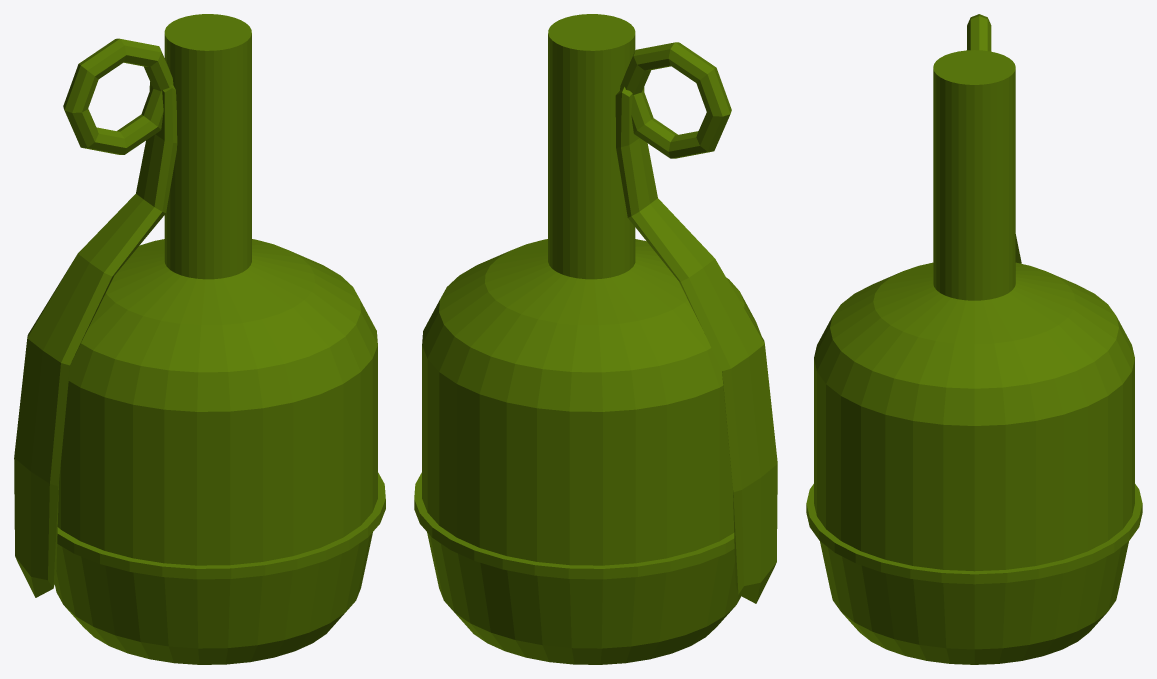
File: simple-grenade__grenade.glb
3 renders of one model, left to right at view 1: azimuth 30°, elevation 25°; view 2: azimuth 150°, elevation 25°; view 3: azimuth 270°, elevation 25°, orthographic. The views are drawn at different scales.
Parts seen in each view (by area): view 1: Cylinder, Torus; view 2: Cylinder, Torus; view 3: Cylinder, Torus.
Part boxes in pixels (x1,y1,x2,y2): Cylinder: (14, 14, 385, 664); Torus: (63, 38, 173, 154); Cylinder: (414, 14, 777, 664); Torus: (620, 42, 731, 158); Cylinder: (806, 50, 1142, 664); Torus: (967, 14, 991, 51).
Size of the model in its own units: 2.22 by 3.95 by 2.09.
